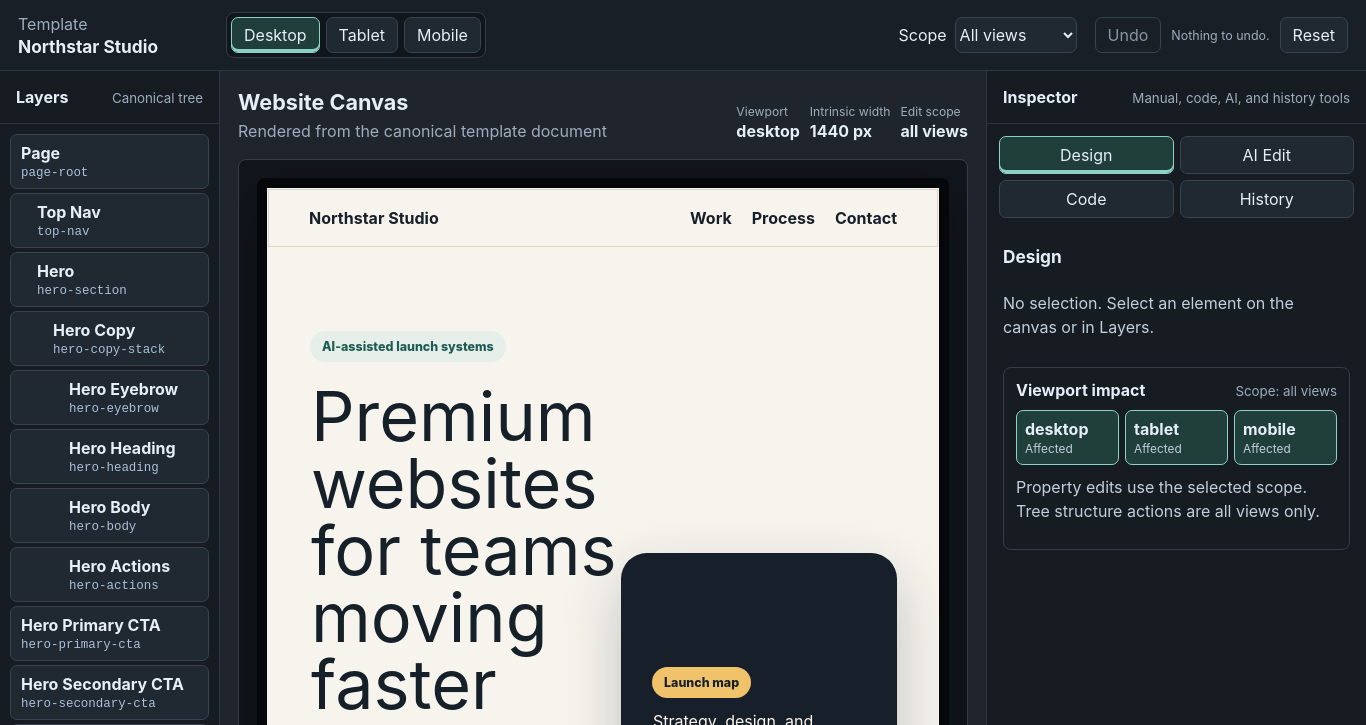
Test: EditorShell › updates the canvas label when the edit scope changes
Select "Mobile only" in the dropdown labelled "Scope": (1016, 35) [955, 17, 1077, 53]
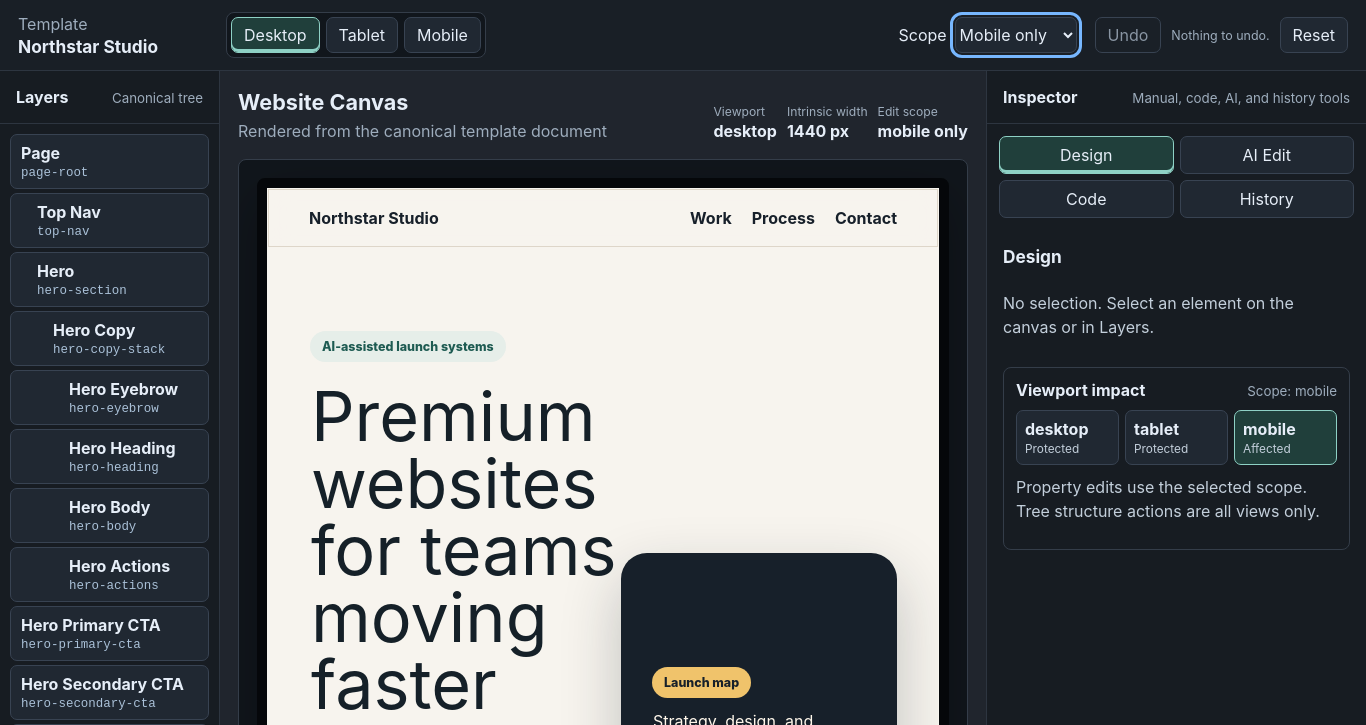
expect the text "mobile only" is shown: met, box [878, 121, 968, 141]
